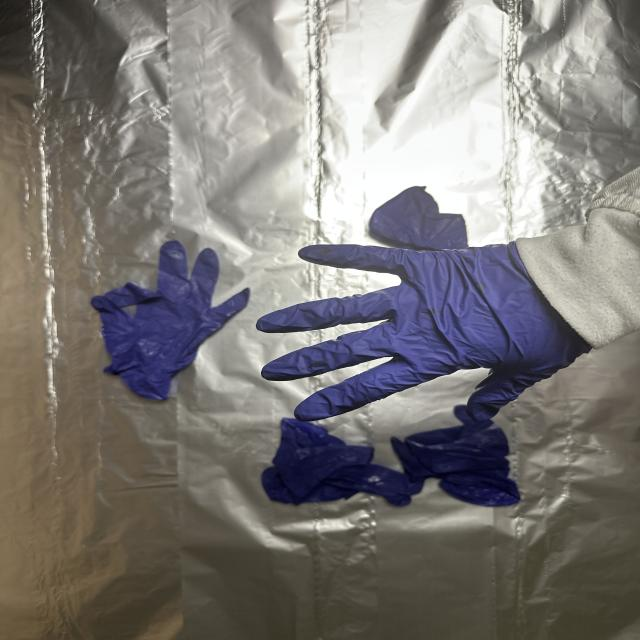gloves_contaminated: (256, 242, 590, 420)
